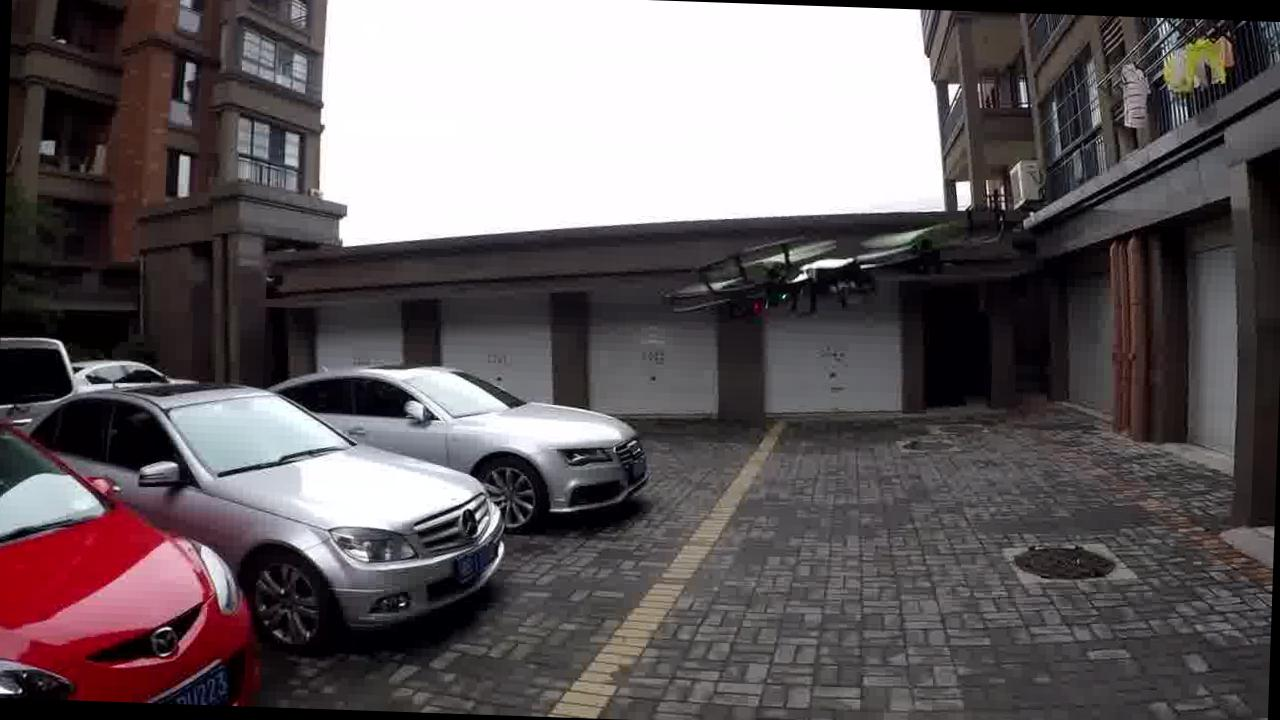drone: (656, 197, 972, 354)
